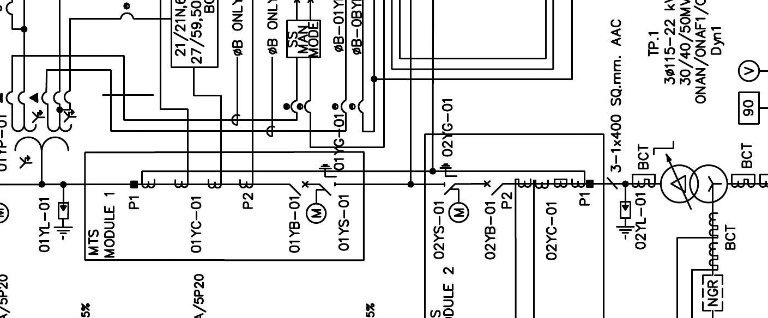11522_tx_dyn1: (660, 164, 729, 204)
115_3ways_ds_w_motor: (305, 163, 337, 224), (439, 163, 470, 224)
115_breaker: (289, 180, 309, 197), (484, 180, 504, 196)
115_la: (53, 201, 74, 241), (615, 200, 636, 240)
ss_man_mode: (286, 19, 322, 59)
v_m: (737, 59, 760, 83)
